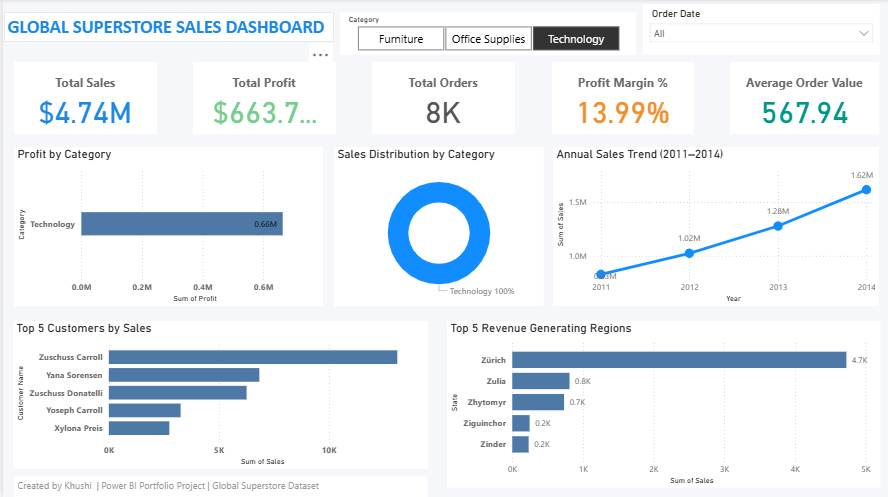

What the dashboard file says about the page in this screenshot:
{"tool":"powerbi","page":{"name":"Page 1","canvas":[1280,720],"ordinal":0},"visuals":[{"type":"cardVisual","fields":{"Data":["Orders.Total Sales"]},"box":[15.8,90.7,205.9,103.7],"z":0},{"type":"cardVisual","fields":{"Data":["Orders.Total Profit"]},"box":[274,90.7,205.9,103.7],"z":1000},{"type":"cardVisual","fields":{"Data":["Orders.Total Orders"]},"box":[532.1,90.7,205.9,103.7],"z":2000},{"type":"lineChart","title":"Annual Sales Trend (2011–2014)","fields":{"Category":["Orders.Order Date.Variation.Date Hierarchy.Year","Orders.Order Date.Variation.Date Hierarchy.Quarter","Orders.Order Date.Variation.Date Hierarchy.Month","Orders.Order Date.Variation.Date Hierarchy.Day"],"Y":["Sum(Orders.Sales)"]},"box":[792,213.1,469.4,229],"z":3000},{"type":"clusteredBarChart","title":"Top 5 Revenue Generating Regions","fields":{"Y":["Sum(Orders.Sales)"],"Category":["Orders.State"]},"box":[639.4,463.7,623.5,240.5],"z":4000},{"type":"slicer","fields":{"Values":["Orders.Category"]},"box":[485.3,18.7,426.2,61.9],"z":5000},{"type":"slicer","fields":{"Values":["Orders.Order Date"]},"box":[921.6,7.2,341.3,73.4],"z":6000},{"type":"textbox","box":[1.4,18.7,475.2,43.2],"z":7000},{"type":"cardVisual","fields":{"Data":["Orders.Profit Margin %"]},"box":[790.2,90.7,204.5,103.7],"z":8000},{"type":"clusteredBarChart","title":"Profit by Category ","fields":{"Category":["Orders.Category"],"Y":["Sum(Orders.Profit)"]},"box":[15.8,213.1,445,229],"z":9000},{"type":"donutChart","title":"Sales Distribution by Category","fields":{"Category":["Orders.Category"],"Y":["Sum(Orders.Sales)"]},"box":[476.6,213.1,302.4,229],"z":9001},{"type":"clusteredBarChart","title":"Top 5 Customers by Sales","fields":{"Category":["Orders.Customer Name"],"Y":["Sum(Orders.Sales)"]},"box":[14.4,463.7,597.6,213.1],"z":9002},{"type":"textbox","box":[15.8,686.9,594.7,33.1],"z":9003},{"type":"cardVisual","fields":{"Data":["Orders.Average Order Value"]},"box":[1046.9,90.7,214.6,103.7],"z":9004}]}

Visuals, with their boxes in screenshot pixels (x1, y1, x2, y2), scaled from the page's 1280x720 canvas onto the 888x497 screenshot:
cardVisual - Orders.Total Sales: region(11, 63, 154, 134)
cardVisual - Orders.Total Profit: region(190, 63, 333, 134)
cardVisual - Orders.Total Orders: region(369, 63, 512, 134)
"Annual Sales Trend (2011–2014)" lineChart: region(549, 147, 875, 305)
"Top 5 Revenue Generating Regions" clusteredBarChart: region(444, 320, 876, 486)
slicer - Orders.Category: region(337, 13, 632, 56)
slicer - Orders.Order Date: region(639, 5, 876, 56)
textbox: region(1, 13, 331, 43)
cardVisual - Orders.Profit Margin %: region(548, 63, 690, 134)
"Profit by Category " clusteredBarChart: region(11, 147, 320, 305)
"Sales Distribution by Category" donutChart: region(331, 147, 540, 305)
"Top 5 Customers by Sales" clusteredBarChart: region(10, 320, 425, 467)
textbox: region(11, 474, 424, 496)
cardVisual - Orders.Average Order Value: region(726, 63, 875, 134)
